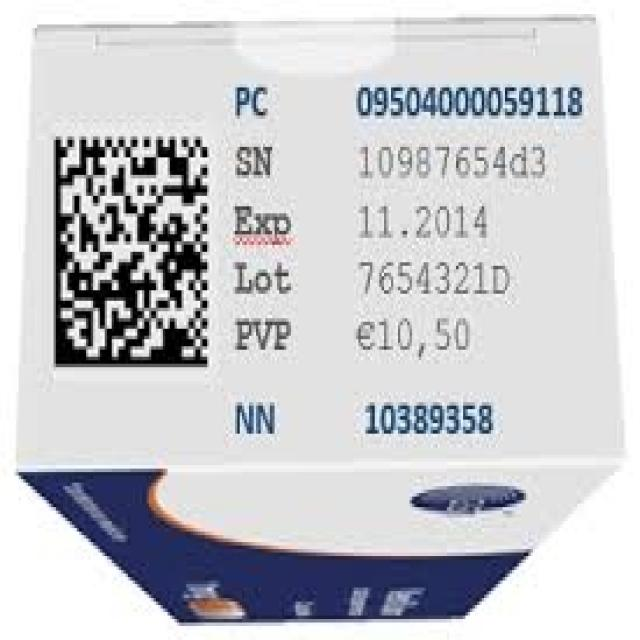datamatrix: (47, 122, 214, 382)
